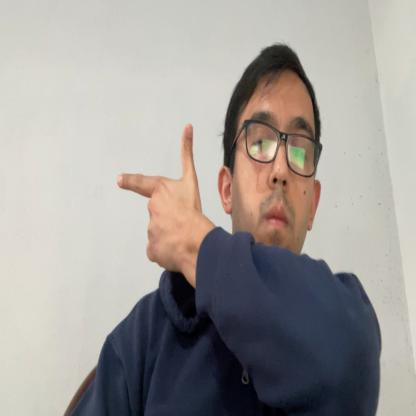G: (117, 122, 196, 273)
